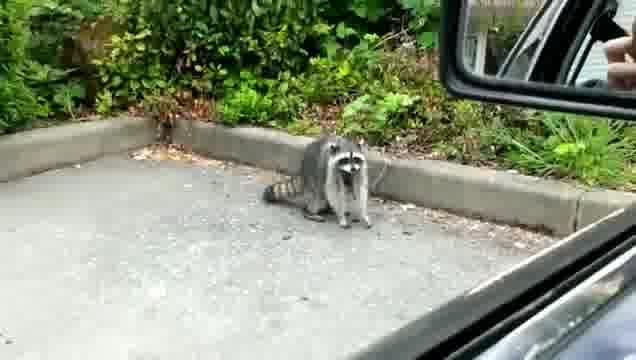raccoon: (257, 132, 378, 240)
